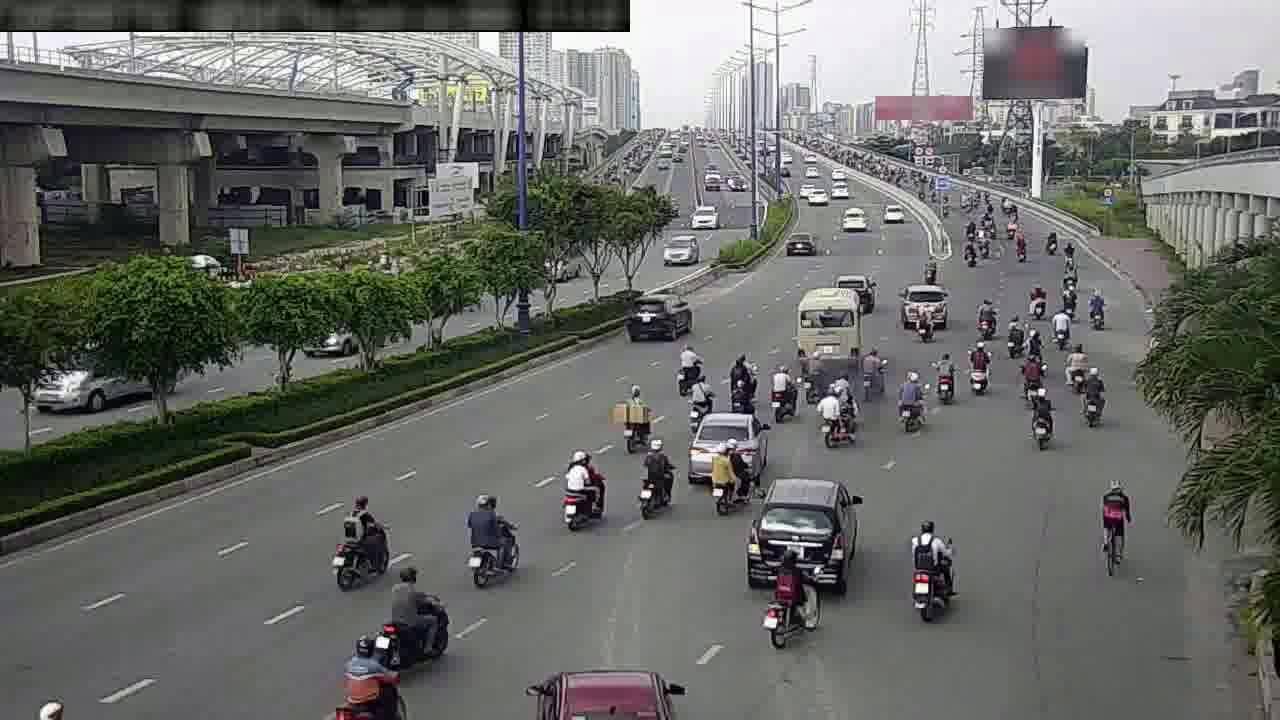14: (793, 287, 856, 358)
container: (749, 478, 858, 585), (684, 404, 765, 482), (621, 289, 691, 342), (896, 282, 951, 330)
motorbike: (374, 564, 454, 670), (459, 487, 522, 586), (328, 494, 392, 591), (332, 634, 402, 718), (903, 515, 959, 617), (764, 549, 819, 642), (556, 448, 611, 535), (1089, 473, 1136, 573), (703, 436, 751, 519), (631, 437, 677, 517), (612, 382, 654, 451), (1024, 384, 1060, 447), (1074, 365, 1111, 426), (893, 368, 928, 430), (764, 362, 798, 424), (668, 341, 704, 394), (961, 339, 993, 395), (682, 367, 714, 423), (929, 349, 961, 403), (856, 347, 888, 401), (817, 390, 842, 450), (1060, 341, 1091, 389), (730, 349, 757, 404), (969, 293, 1001, 339), (844, 272, 879, 314), (801, 357, 826, 408), (1019, 350, 1046, 396), (833, 368, 856, 421), (1081, 286, 1110, 328), (1000, 312, 1027, 357), (1047, 305, 1074, 347), (1022, 280, 1049, 321), (1023, 315, 1047, 356), (728, 376, 753, 415), (917, 249, 942, 285), (1055, 275, 1079, 312), (911, 300, 931, 341)
